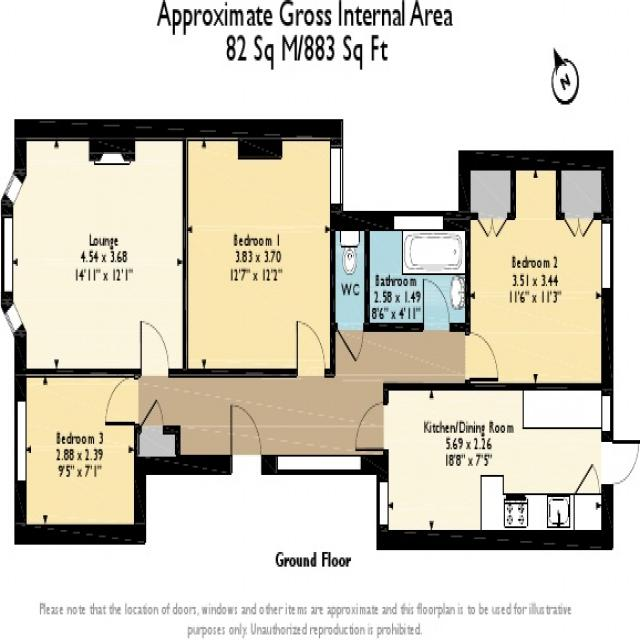DOOR: (227, 401, 265, 476), (294, 317, 328, 377), (465, 328, 500, 384), (138, 317, 171, 376), (352, 398, 388, 451), (104, 376, 140, 428), (602, 438, 640, 487), (422, 276, 452, 332)
ROOM: (353, 381, 640, 552), (0, 117, 188, 378), (182, 119, 344, 377), (458, 148, 614, 388), (14, 368, 146, 545)
WINDOW: (0, 165, 26, 339), (275, 453, 361, 475), (14, 394, 30, 485), (392, 211, 445, 232), (329, 143, 345, 206)
